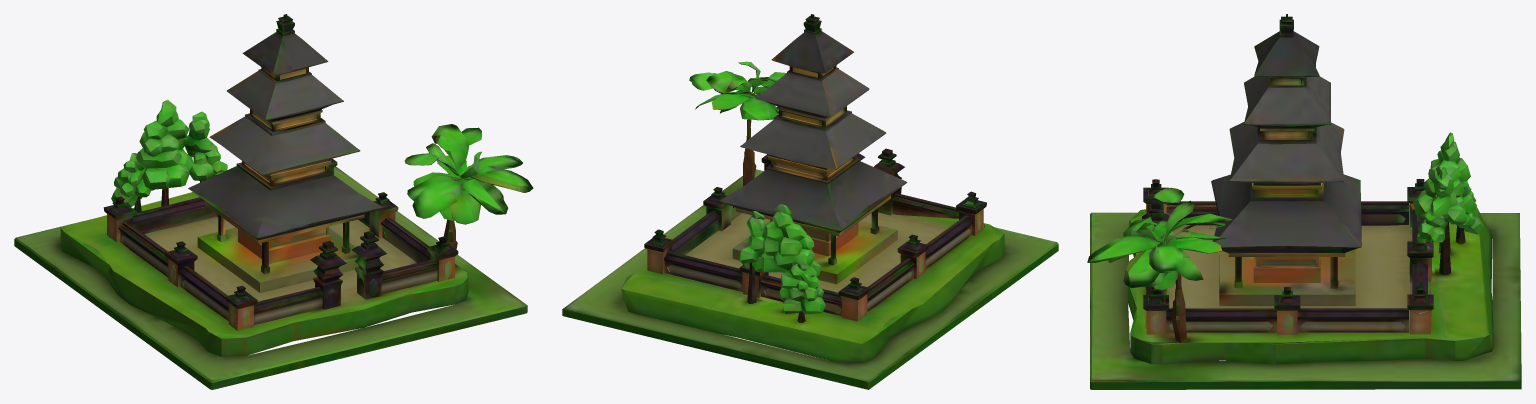
The model's file is pura_1_lod2.glb.
The picture shows the model from 3 angles, left to right: view 1: azimuth 30°, elevation 25°; view 2: azimuth 150°, elevation 25°; view 3: azimuth 270°, elevation 25°; orthographic projection. The views are drawn at different scales.
Visible parts, largest first — view 1: tripo_node_0cf8fe97; view 2: tripo_node_0cf8fe97; view 3: tripo_node_0cf8fe97.
Part boxes in pixels (x1,y1,x2,y2): tripo_node_0cf8fe97: (14,14,533,389); tripo_node_0cf8fe97: (562,14,1058,389); tripo_node_0cf8fe97: (1087,14,1521,389).
Bounding box in the file's own units: 0.9969 × 0.7451 × 0.9974.
1 material, 1 textured.
